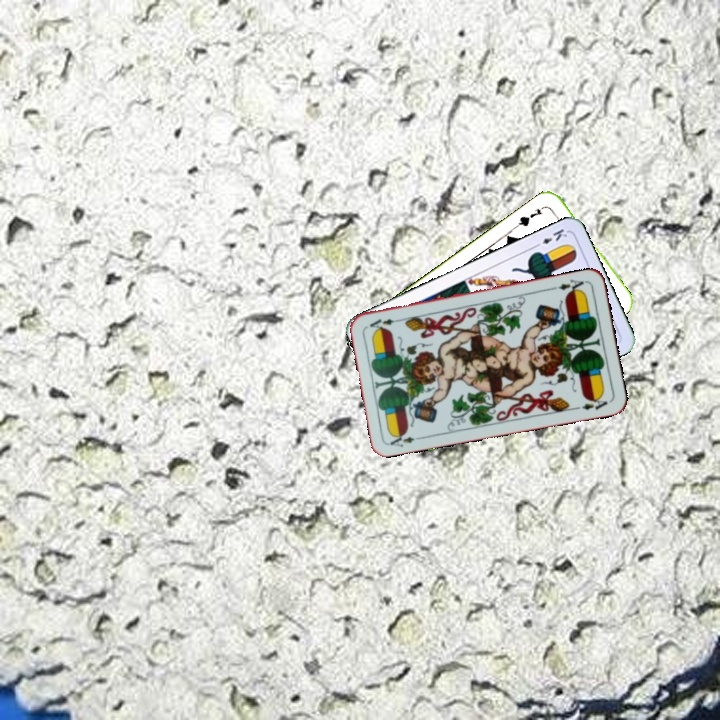EA: (549, 275, 589, 296), (386, 428, 426, 449)
EK: (530, 224, 570, 250)
G7: (513, 204, 545, 229)
